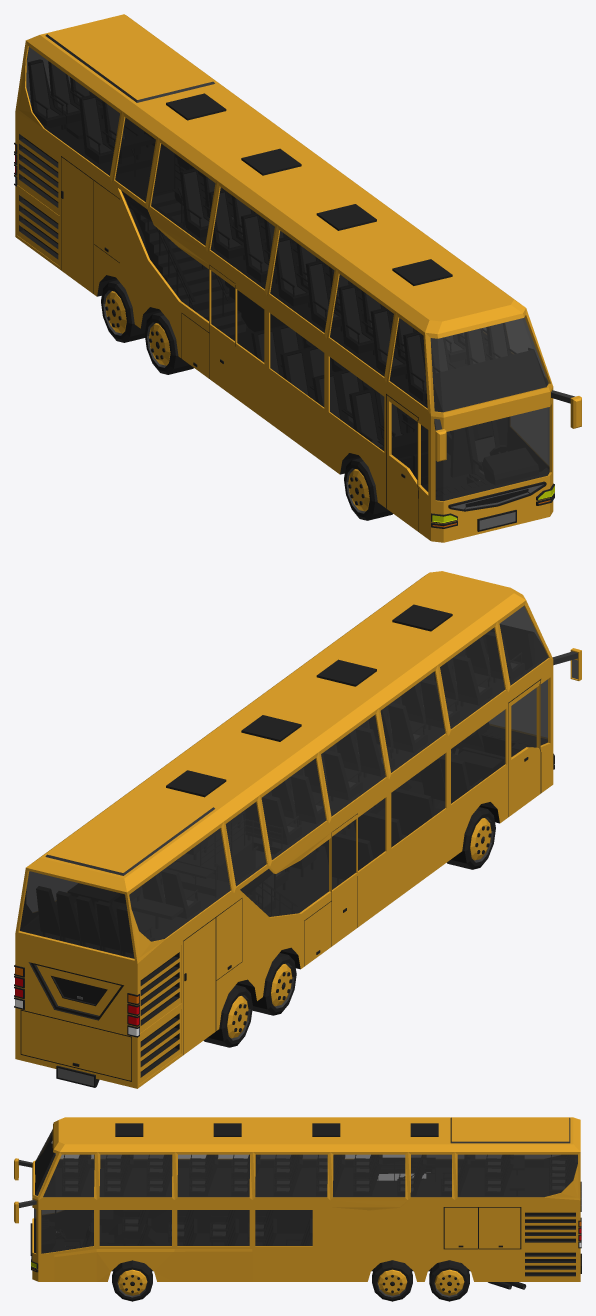
3 renders of one model, top to bottom at view 1: azimuth 30°, elevation 25°; view 2: azimuth 150°, elevation 25°; view 3: azimuth 270°, elevation 25°, orthographic. The views are drawn at different scales.
Parts seen in each view (by area): view 1: bus_001; view 2: bus_001; view 3: bus_001.
Part boxes in pixels (x1,y1,x2,y2): bus_001: [14, 14, 581, 542]; bus_001: [14, 571, 581, 1088]; bus_001: [14, 1117, 581, 1301].
Bounding box in the file's own units: 3.08 × 4.76 × 16.04.
5 materials, 2 textured.
